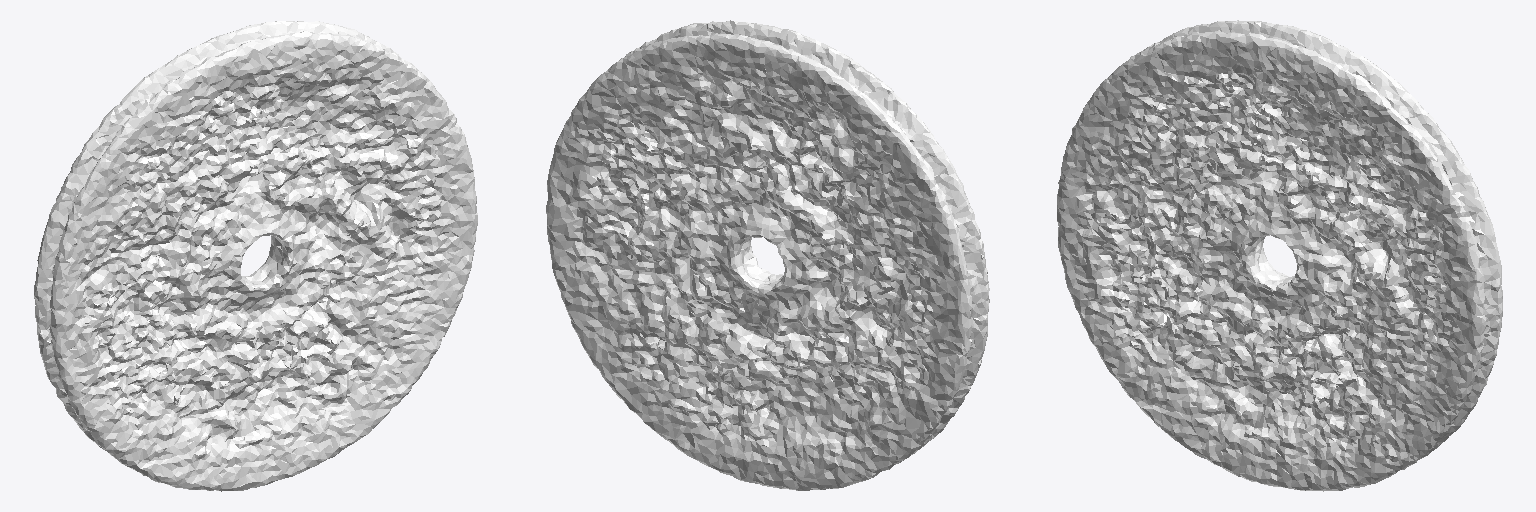
The robot description file, URDF, robot "atb2_round-pulley-large":
<?xml version="0.0" ?>
<robot name="atb2_round-pulley-large">
  <link name="baseLink">
    <contact>
      <friction_anchor/>
      <lateral_friction value="0.8"/>
      <spinning_friction value="0.001"/>
      <rolling_friction value="0.001"/>
      <contact_cfm value="0.0"/>
      <contact_erp value="0.2"/>
    </contact>
    <inertial>
       <origin rpy="0 0 0" xyz="0 0 0"/>
       <mass value="0.01"/>
       <inertia ixx="1e-3" ixy="0" ixz="0" iyy="1e-3" iyz="0" izz="1e-3"/>
    </inertial>
    <visual>
      <origin rpy="0 0 0" xyz="0 0 0"/>
      <geometry>
        <mesh filename="obj/fused_model.obj" scale="1 1 1"/>
      </geometry>
      <material name="white">
        <color rgba="1. 1. 1. 1."/>
      </material>
    </visual>
    <collision>
      <origin rpy="0 0 0" xyz="0 0 0"/>
      <geometry>
        <mesh filename="obj/fused_model.obj" scale="1 1 1"/>
      </geometry>
    </collision>
  </link>
</robot>

--- Render facts (derived) ---
Views: 3 orthographic renders of the robot side by side, from view 1: azimuth 30°, elevation 25°; view 2: azimuth 150°, elevation 25°; view 3: azimuth 330°, elevation 25°.
Model atb2_round-pulley-large with 1 links and 0 joints (none), rooted at baseLink, posed all joints at 0.
Links seen in each view (by area): view 1: baseLink; view 2: baseLink; view 3: baseLink.
Boxes of the visible links, x1,y1,x2,y2 form: baseLink: (34, 21, 477, 491); baseLink: (546, 20, 989, 490); baseLink: (1057, 20, 1502, 491).
Size in the robot's own frame: 0.1008 by 0.0108 by 0.1009 metres.
Meshes: 1 distinct files referenced, 1 mesh visuals loaded (1 OBJ).